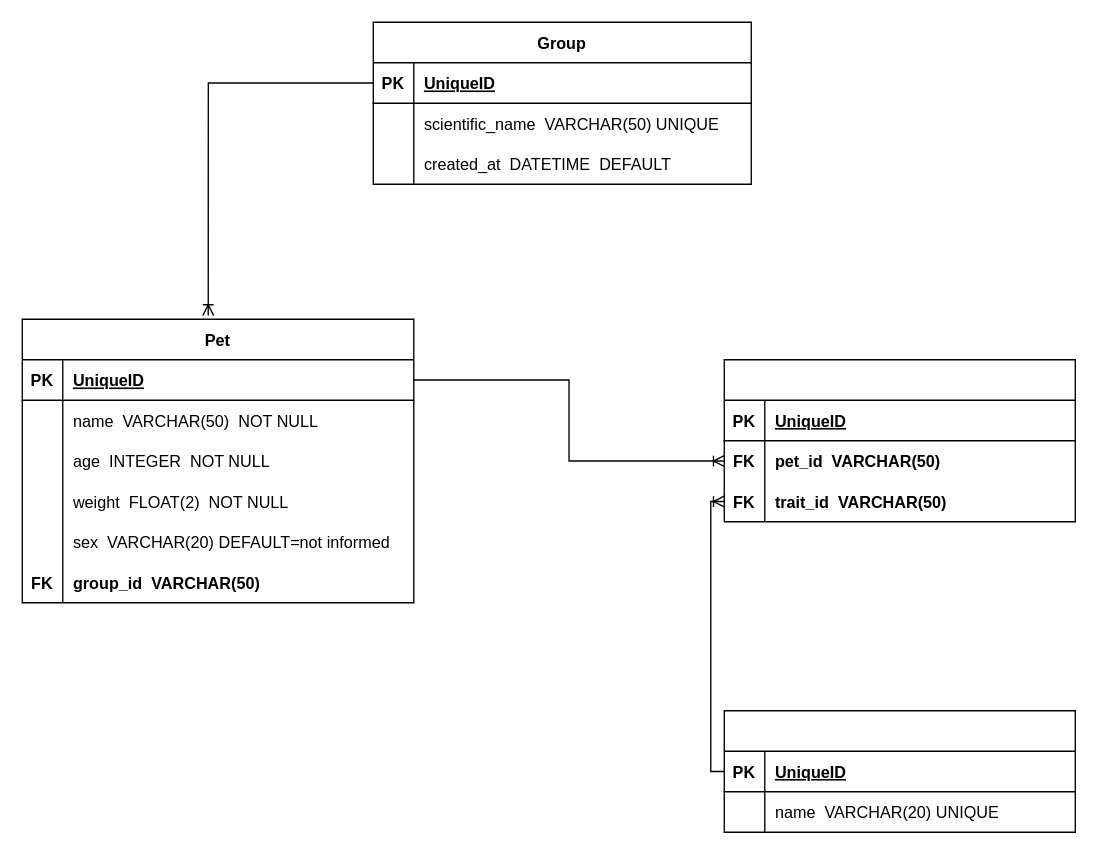
Some shapes in this 1098 by 855 pixel diagram are drawn without their labels. Each missing label, with the box of its shape:
Pet_trait(Pivo): (723, 358, 1075, 522)
Trait: (723, 709, 1075, 832)
